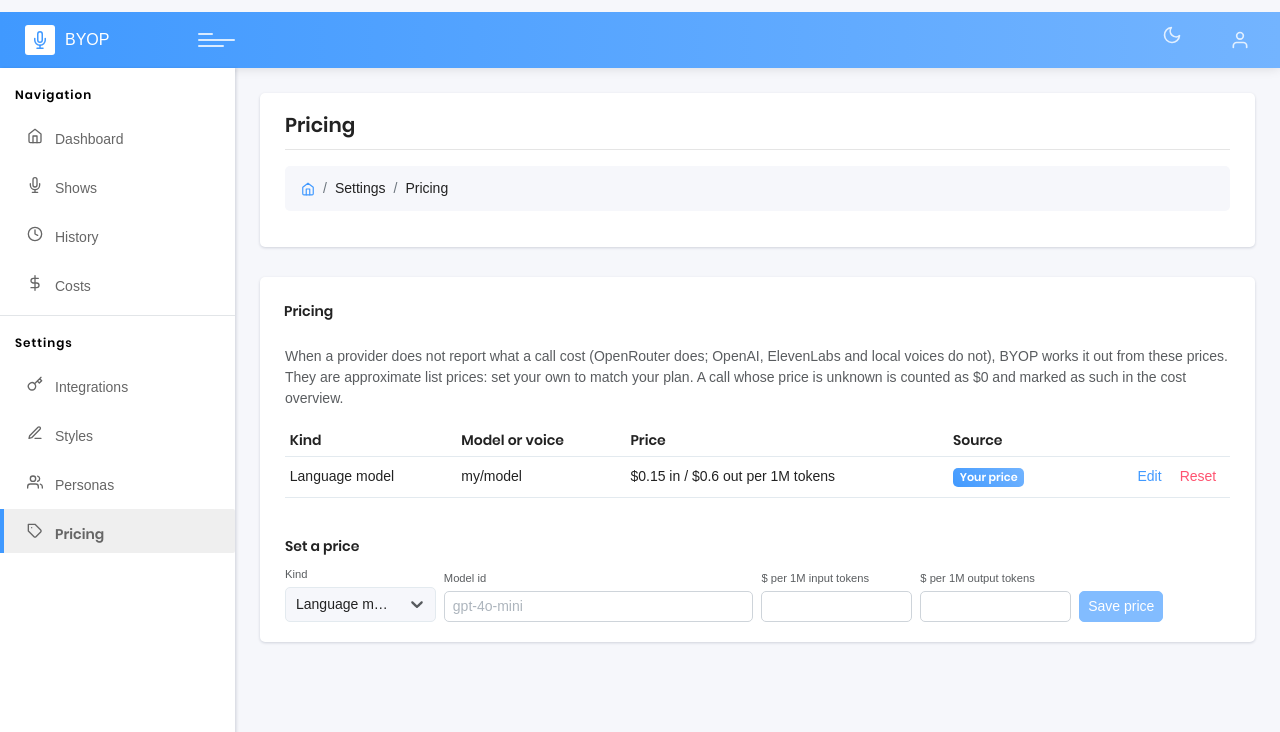
Scenario: pricing page › edits a row by filling the form, and resets your own price
The image size is (1280, 732).
Click the button with aria-label "Edit my/model" at (1150, 477), box [1128, 461, 1171, 492]
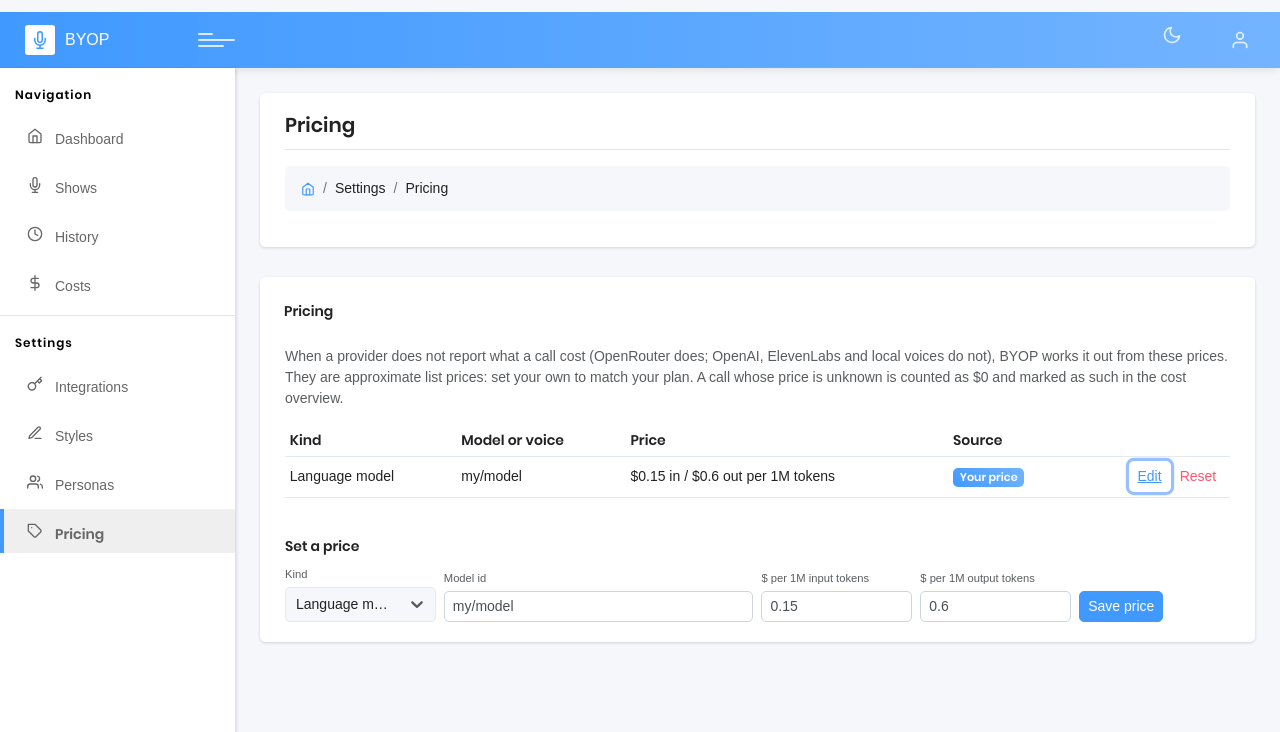
Check: the field labelled "Model id" holds "my/model", box [444, 591, 754, 622]
Check: the number field labelled "$ per 1M input tokens" holds "0.15", box [762, 591, 912, 622]
Click the button with aria-label "Reset my/model" at (1198, 477), box [1171, 461, 1225, 492]
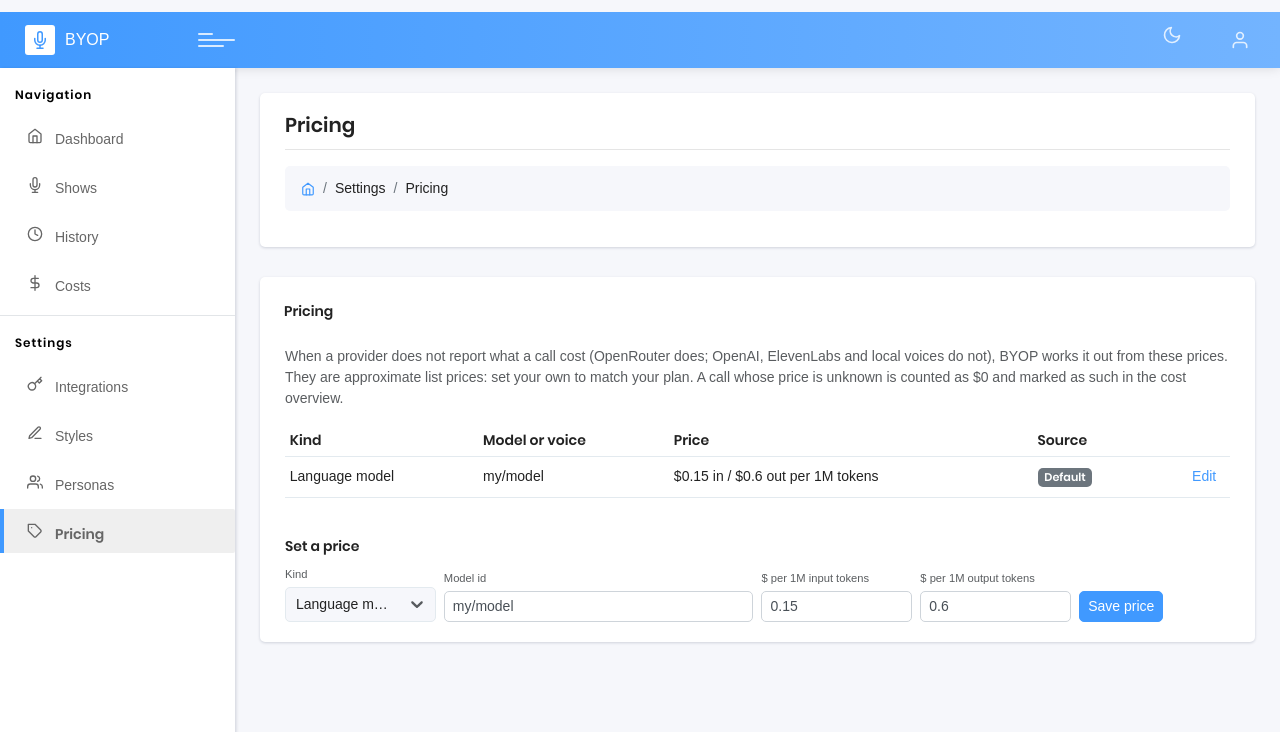
Check: the text "Default" is shown, box [1038, 468, 1092, 487]
